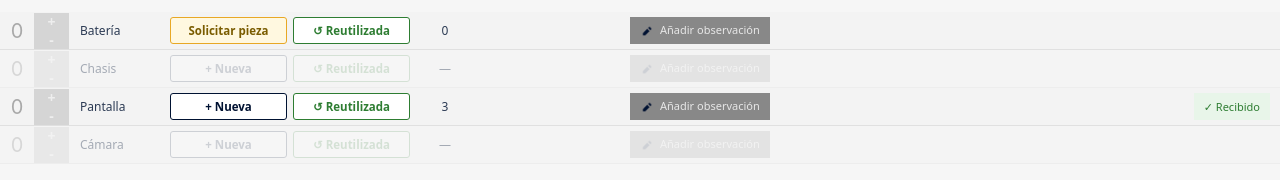
Scenario: FilaComponente (ficha docs/paridad/formulario.md · Filas de componente) › recibido: "✓ Recibido" deshabilitado en una fila editable; al activarla pasa a "✓ Guardar fila" y ya no vuelve
The width and height of the screenshot is (1280, 180).
Expected: the button with test id "boton-derecho-lcd" reads "✓ Recibido", [1194, 93, 1270, 120]
Expected: the button with test id "boton-derecho-lcd" is disabled, [1194, 93, 1270, 120]
Click the button with aria-label "Nueva Pantalla": point(228, 106) [170, 93, 287, 120]
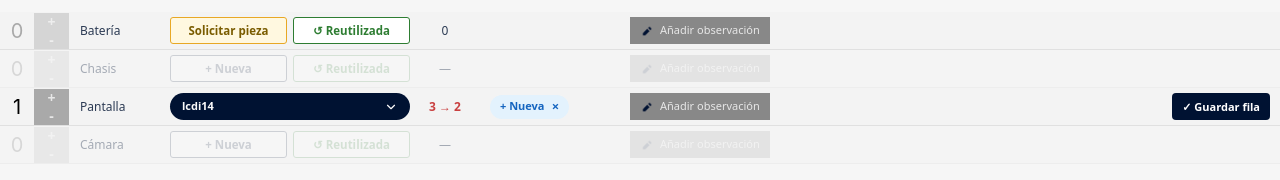
Expected: the button with test id "boton-derecho-lcd" reads "✓ Guardar fila", [1172, 93, 1270, 120]
Click the button named "Restar Pantalla": point(52, 116) [34, 106, 69, 124]
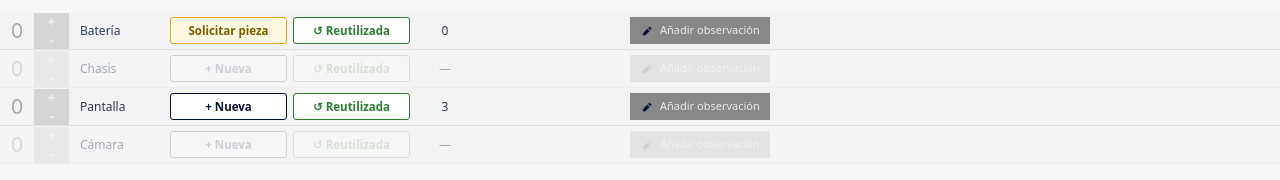
Expected: the button with test id "boton-derecho-lcd" is gone
